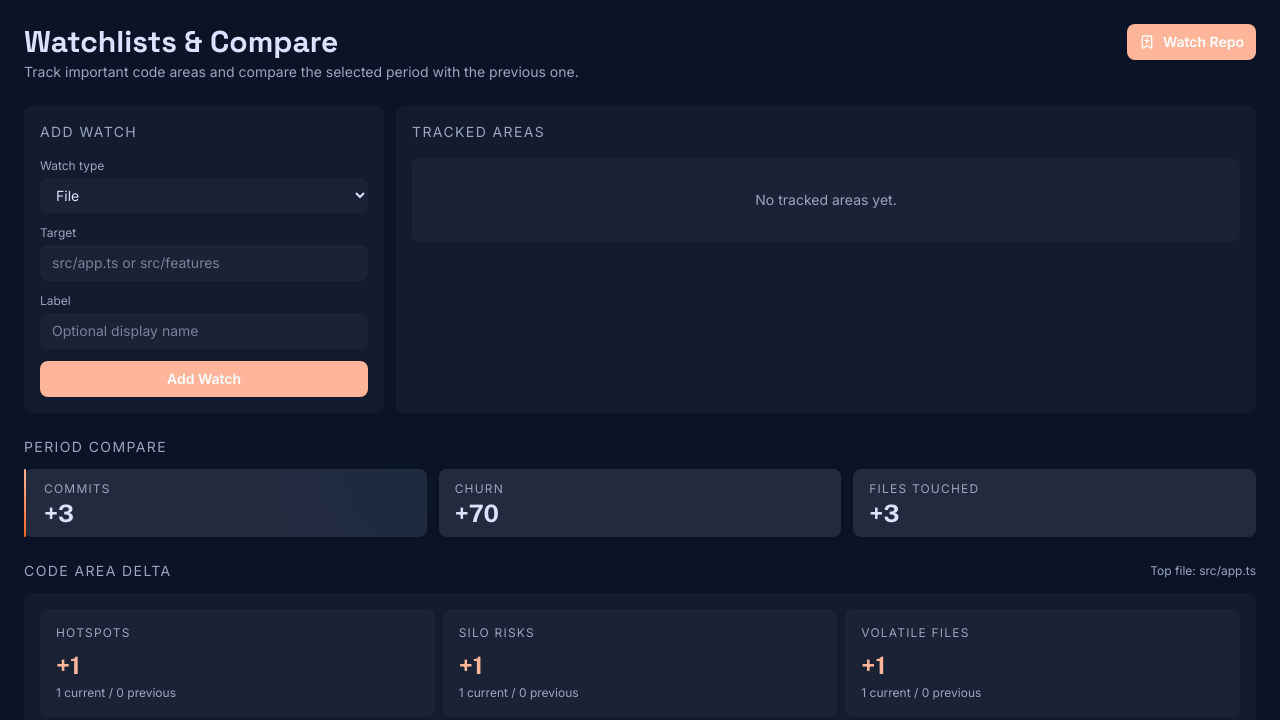
Watchlists page › adds tracked targets and shows period deltas
Expected: the heading "Watchlists & Compare" is shown, [24, 22, 338, 61]
Expected: the text "+3" is shown 2 times, [44, 499, 74, 527]; [869, 499, 899, 527]
Select "File" in the dropdown labelled "Watch type": (204, 196) [40, 178, 368, 213]
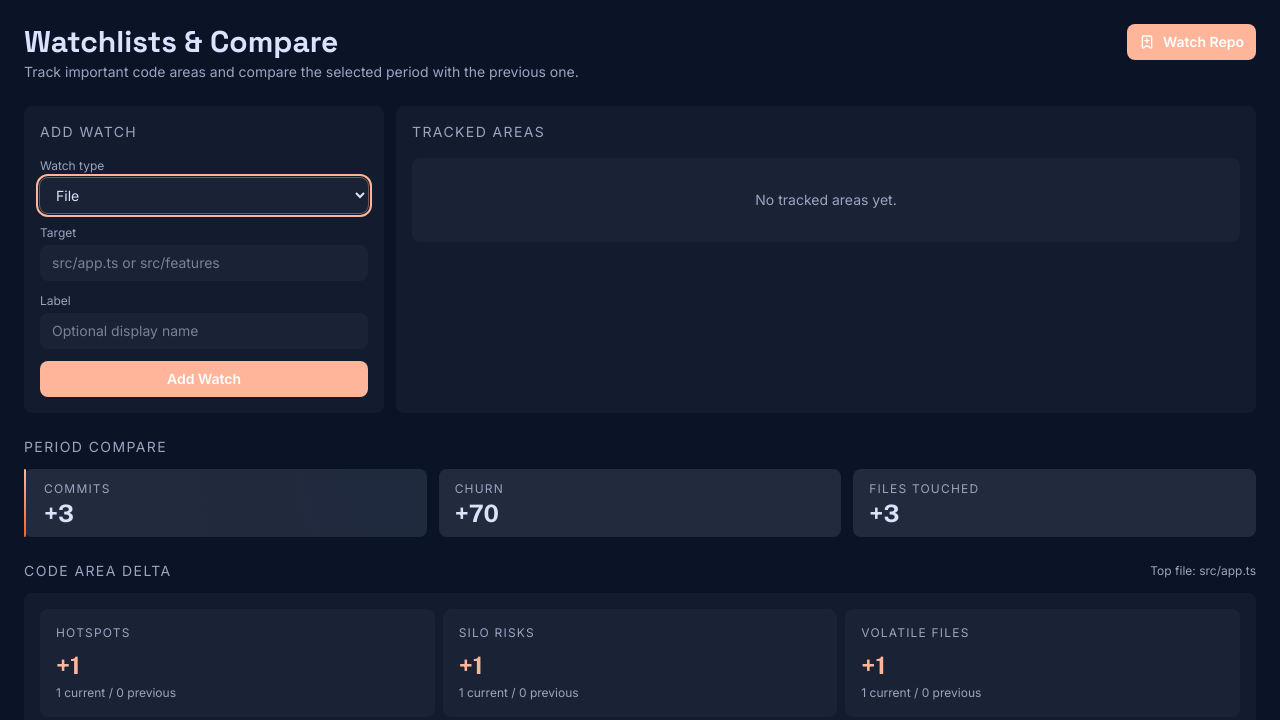
In the field labelled "Target": (204, 263) [40, 245, 368, 281], type "src/app.ts"
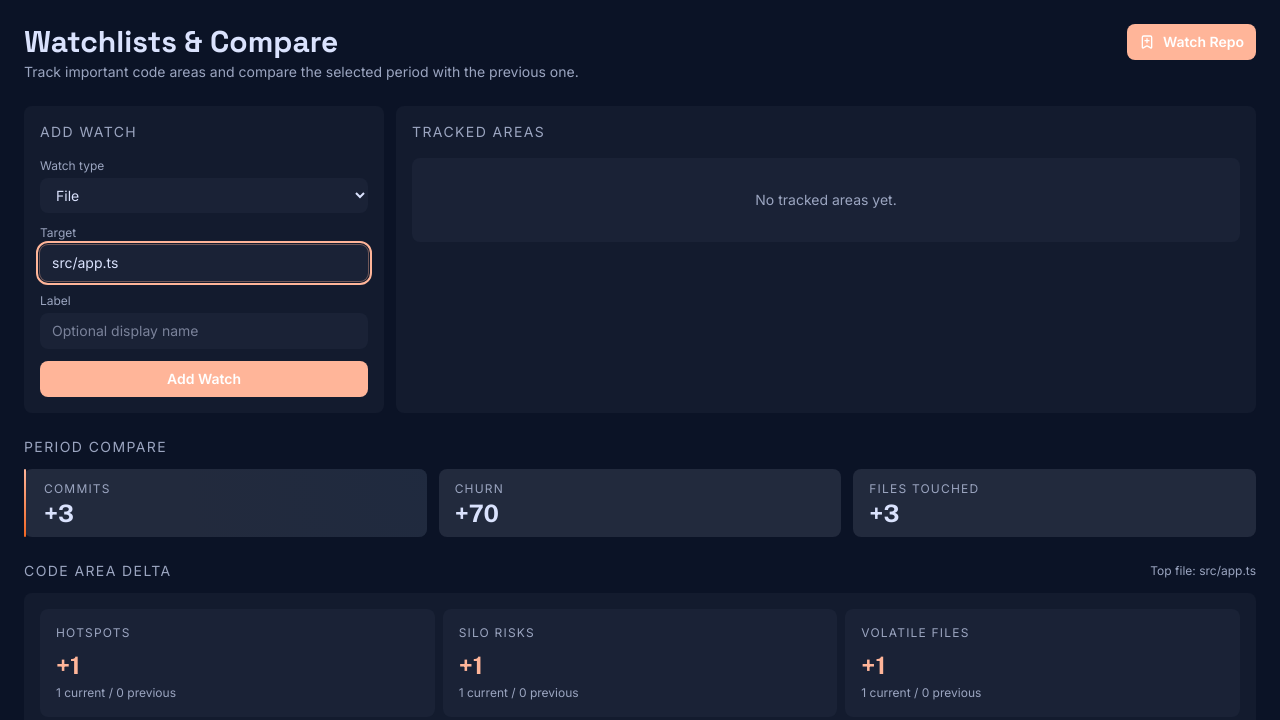
In the field labelled "Label": (204, 331) [40, 313, 368, 349], type "App file"
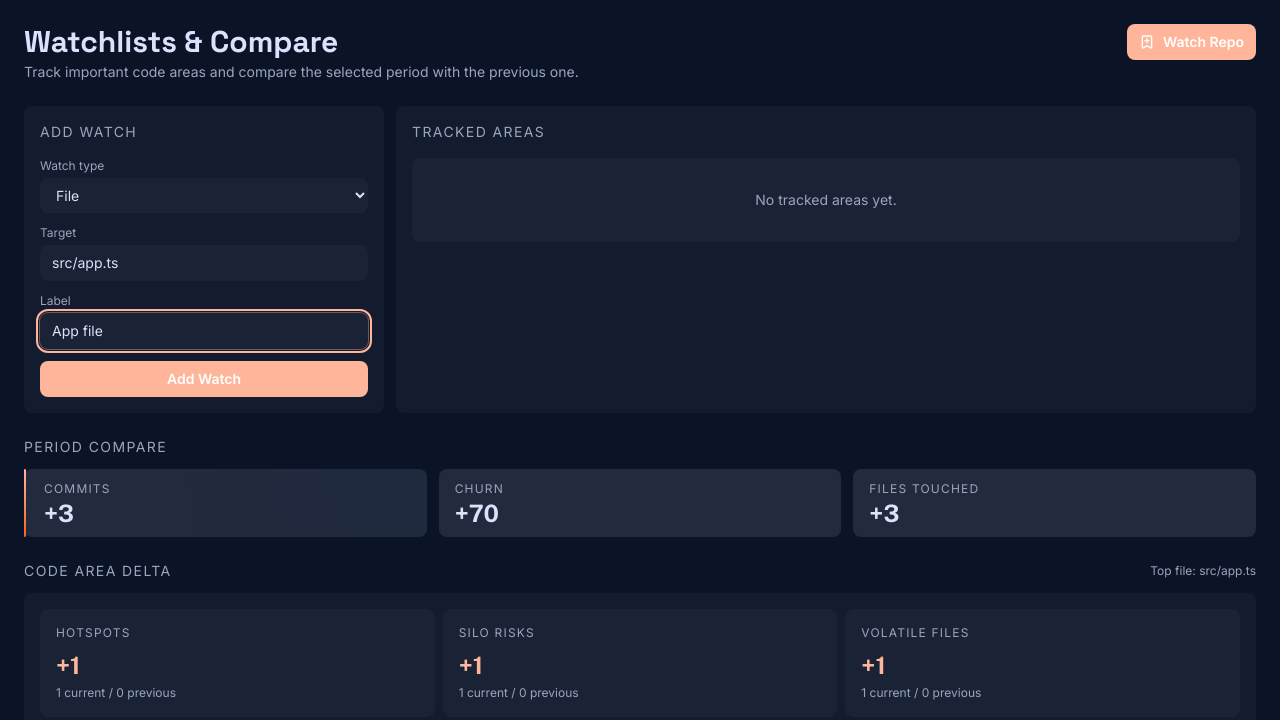
Click the button "Add Watch": (204, 379) [40, 361, 368, 397]
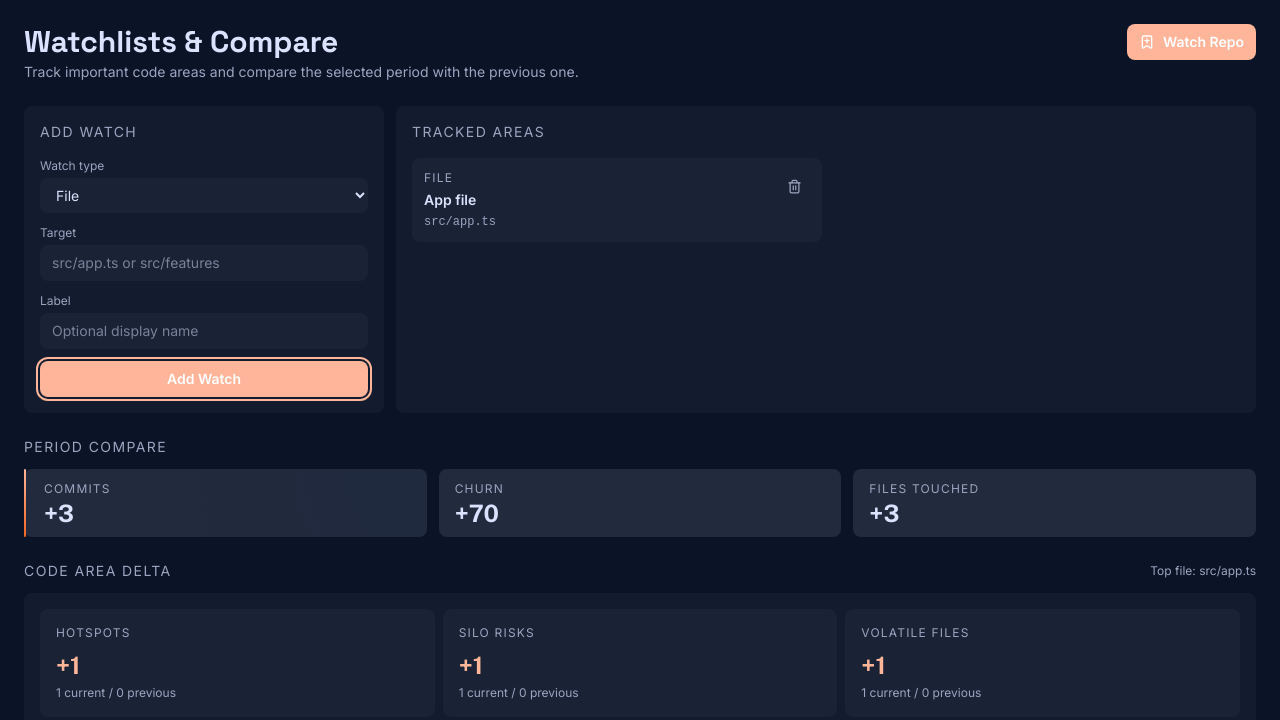
Expected: the heading "App file" is shown, [424, 191, 476, 208]
Expected: the text "src/app.ts" is shown, [424, 214, 496, 230]
Click the button named "remove app file": (794, 186) [778, 170, 810, 202]
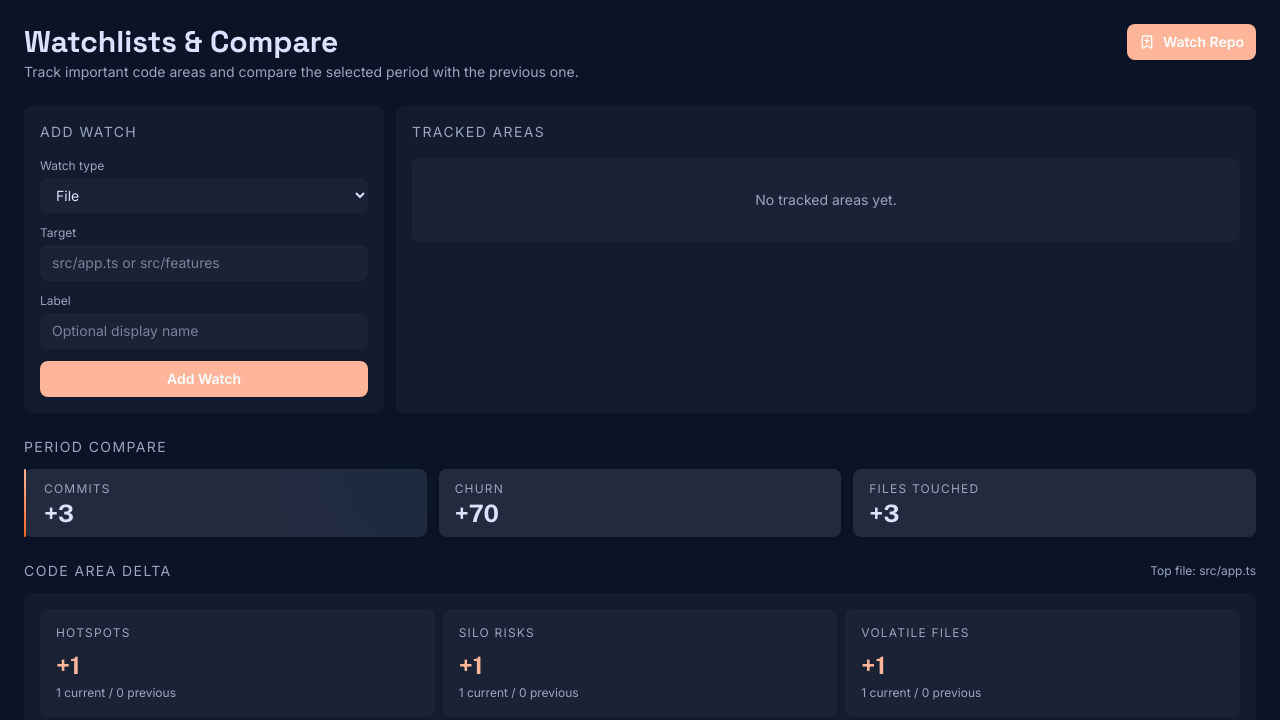
Expected: the heading "App file" is gone
